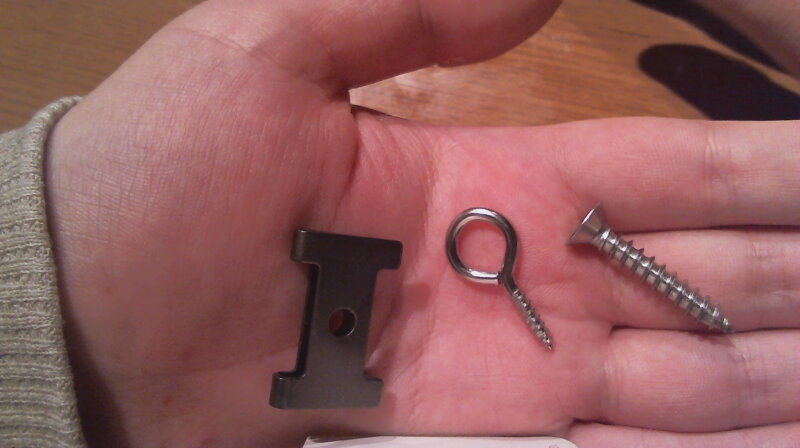O001: (443, 204, 558, 360)
O002: (267, 223, 405, 415)
S001: (564, 204, 736, 333)
